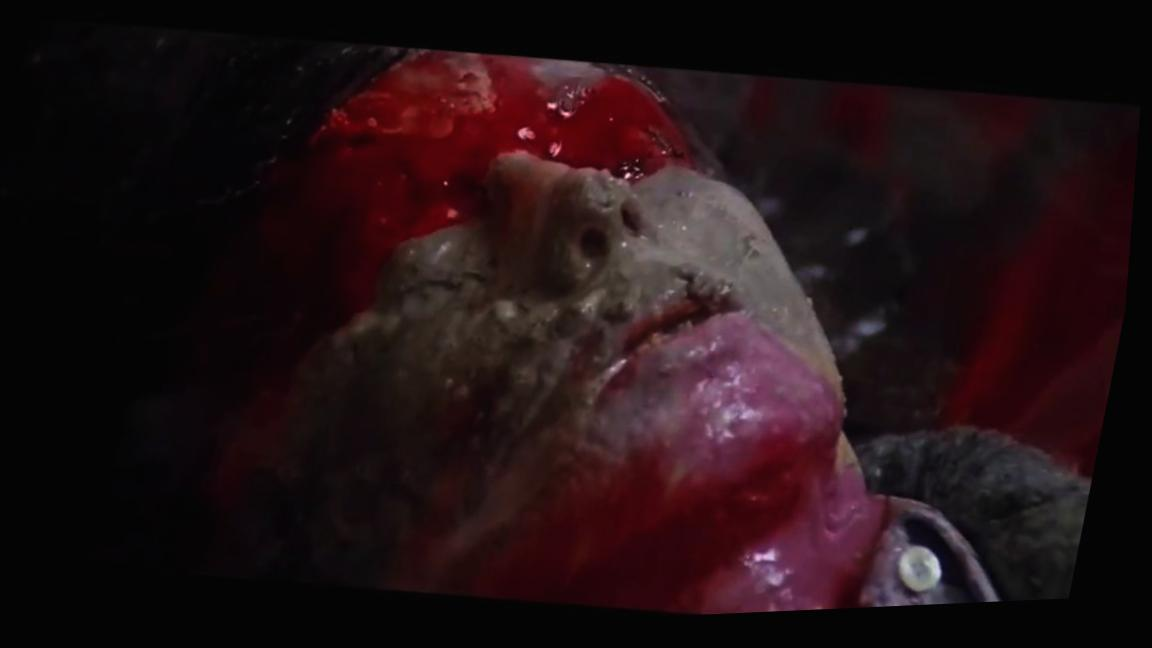Fire: (195, 55, 688, 490), (473, 401, 885, 621), (956, 118, 1143, 484), (929, 102, 1043, 177), (808, 91, 914, 161)
